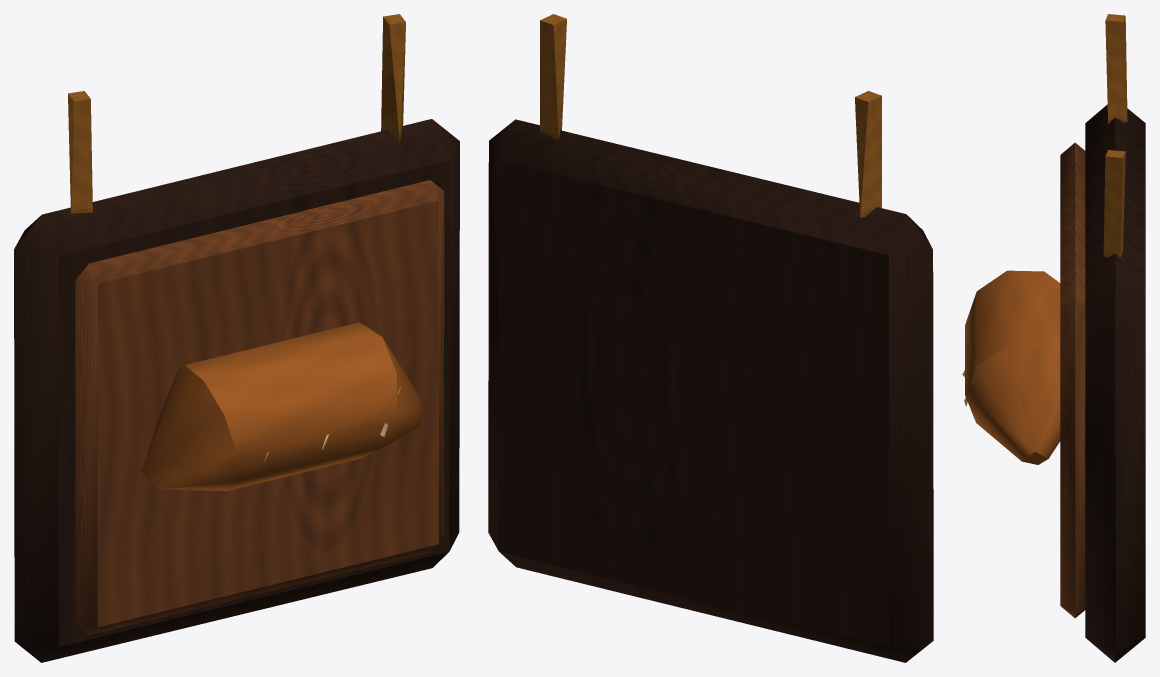
The model's file is Placa_da_padaria_LOD1.fbx.
The picture shows the model from 3 angles, left to right: view 1: azimuth 30°, elevation 25°; view 2: azimuth 150°, elevation 25°; view 3: azimuth 270°, elevation 25°; orthographic projection. The views are drawn at different scales.
Parts seen in each view (by area): view 1: Placa_da_padaria_LOD1; view 2: Placa_da_padaria_LOD1; view 3: Placa_da_padaria_LOD1.
Boxes of the visible parts, bbox=[...] form: Placa_da_padaria_LOD1: bbox=[14, 14, 459, 662]; Placa_da_padaria_LOD1: bbox=[488, 14, 933, 662]; Placa_da_padaria_LOD1: bbox=[962, 14, 1145, 662].
Size of the model in its own units: 136 by 162 by 54.75.
Materials: 1 (1 with a texture image).
